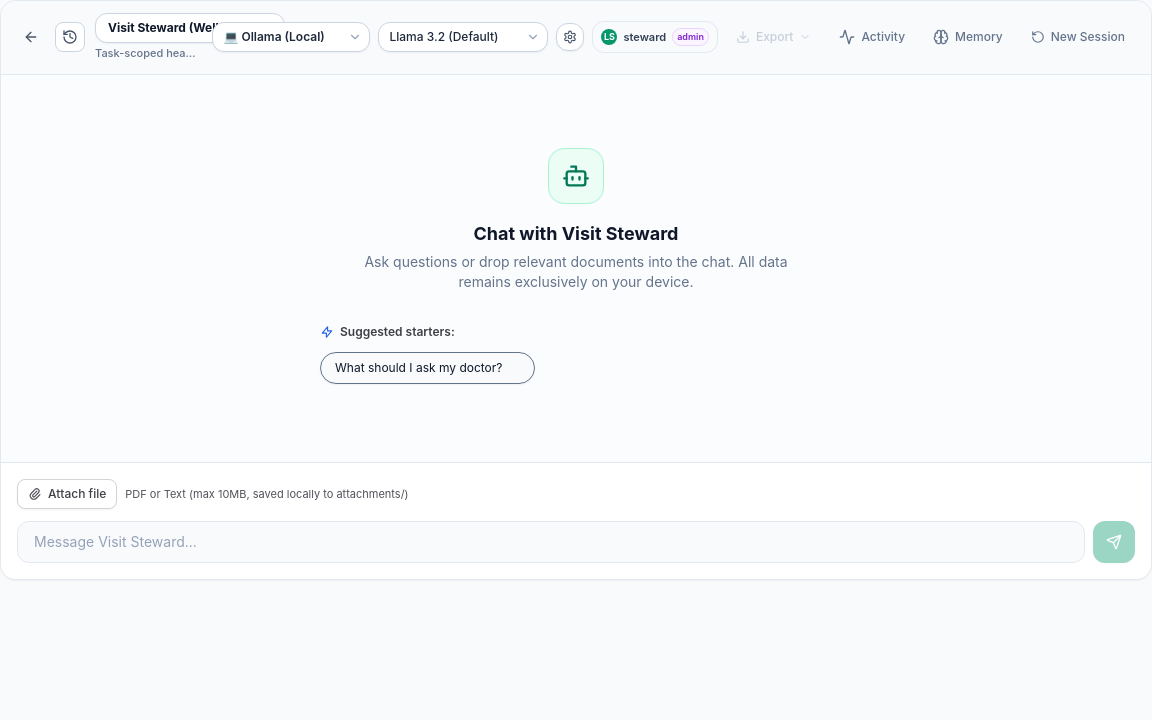
Adversarial Stress Test: Resilience Under Edge Conditions › aborting stream via Stop button cleanly terminates stream and re-enables composer
This screenshot has width=1152, height=720.
Type "Cancel this query" into the text box with placeholder "Message Visit Steward..." at (551,542), box x1=17 y1=521 x2=1085 y2=563
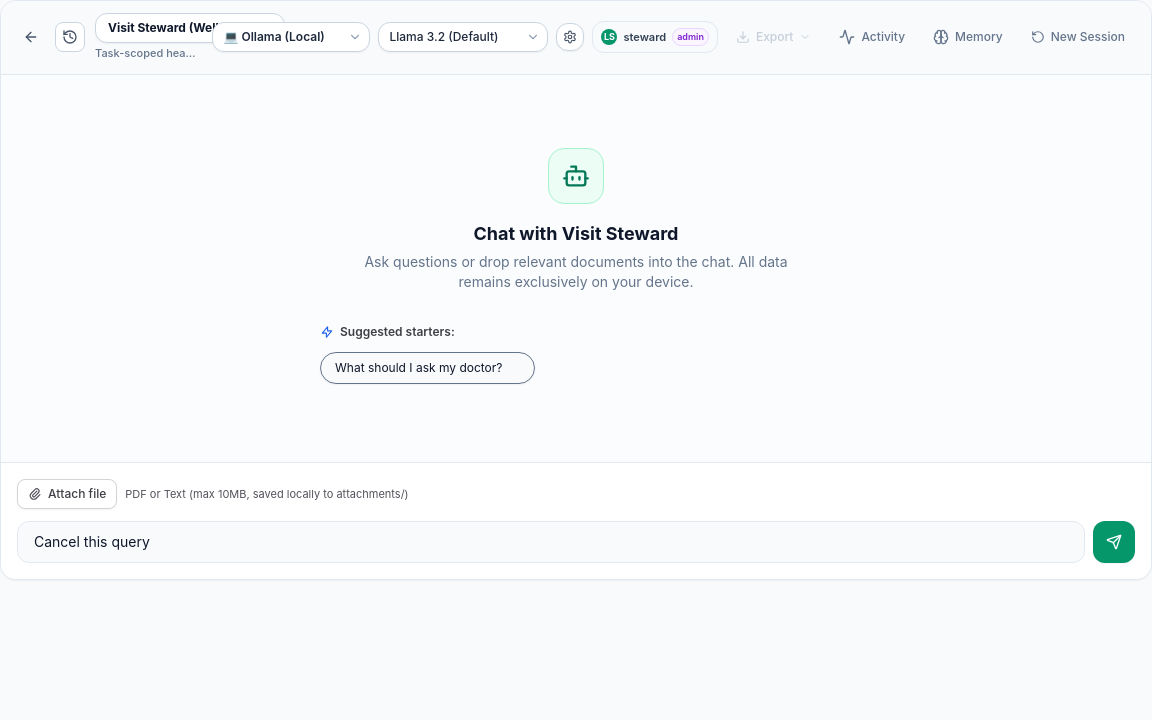
Press Enter in the text box with placeholder "Message Visit Steward...", box x1=17 y1=521 x2=1085 y2=563
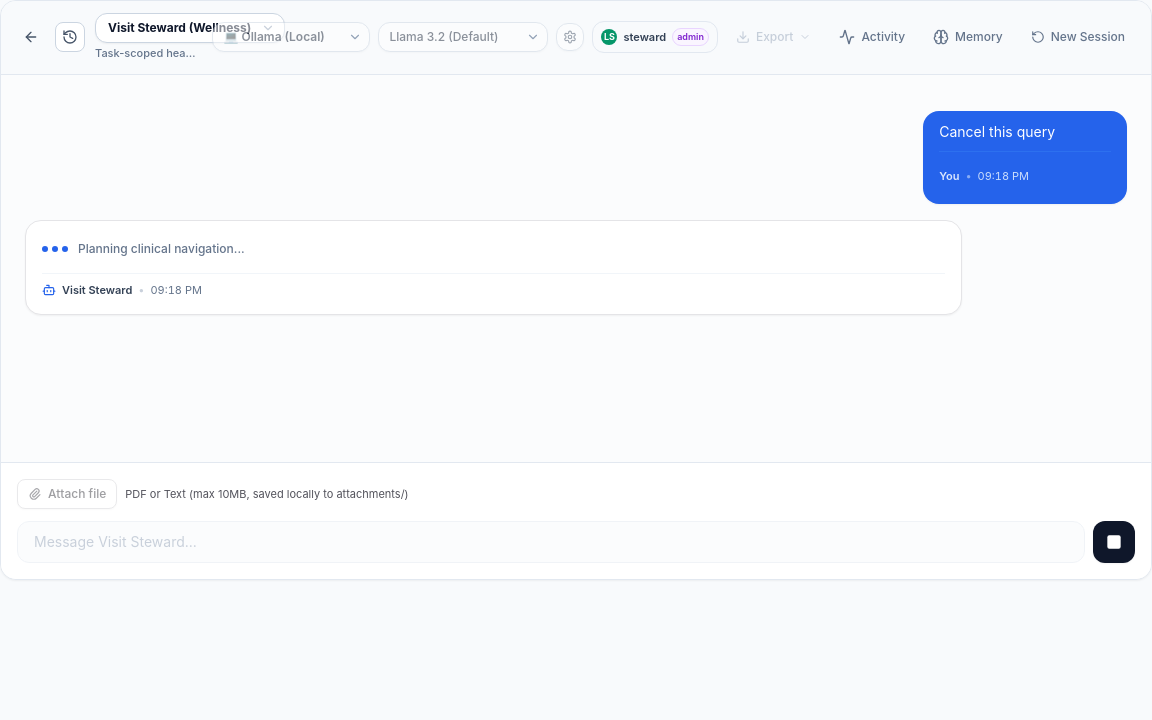
Expected: the button with test id "chat-stop-btn" is shown
// Click stop button
Click the button with test id "chat-stop-btn" at (1114,542), box x1=1093 y1=521 x2=1135 y2=563
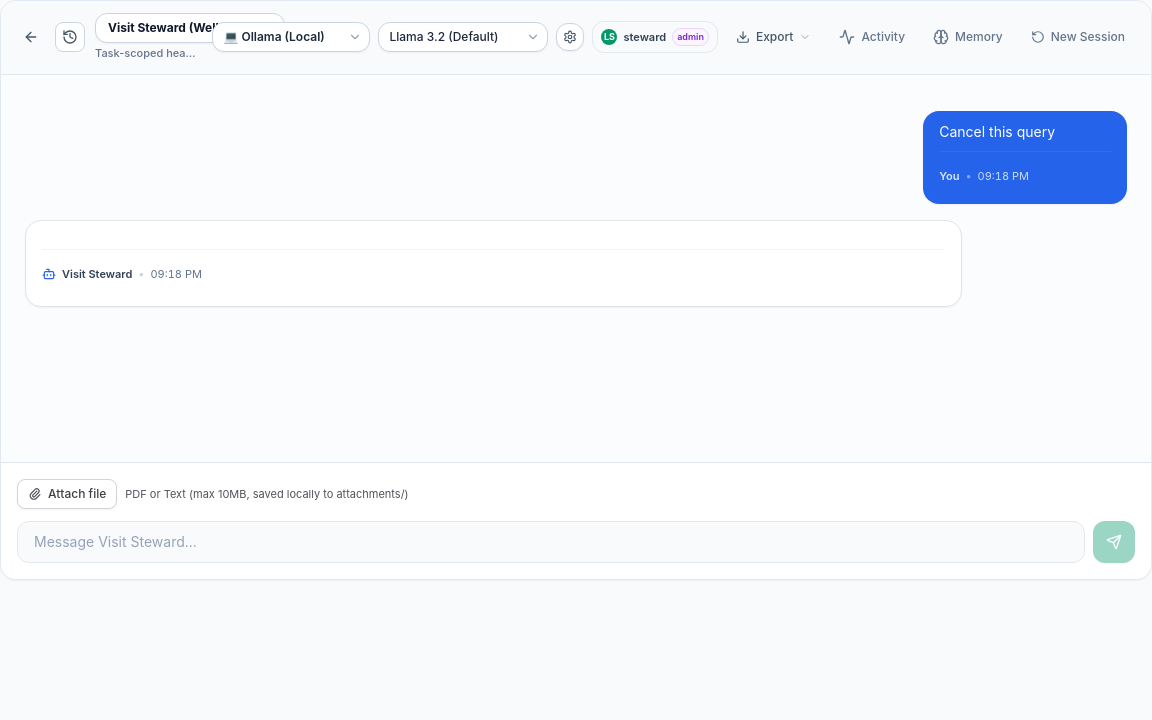
Expected: the button with test id "chat-submit-btn" is shown, x1=1093 y1=521 x2=1135 y2=563
Expected: the text box with placeholder "Message Visit Steward..." is enabled, x1=17 y1=521 x2=1085 y2=563
